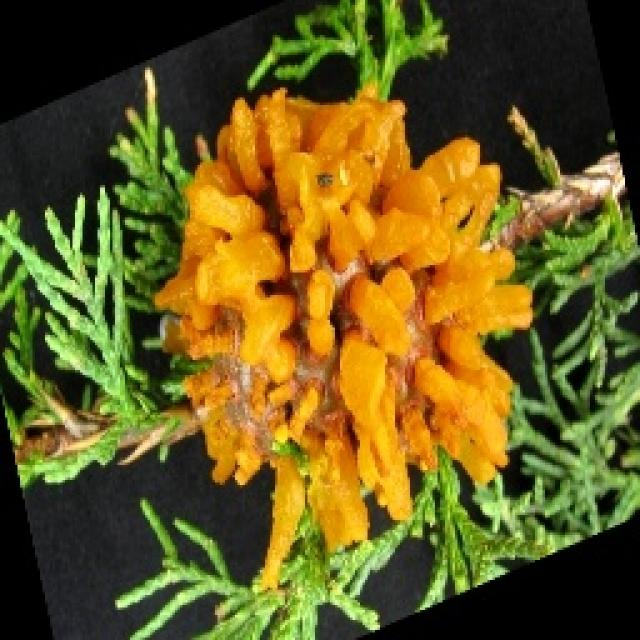Gymnosporangium_Rusts: (150, 80, 535, 590)
